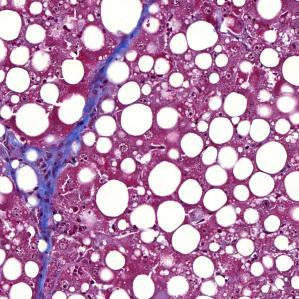fibrosis: (23, 132, 85, 181)
